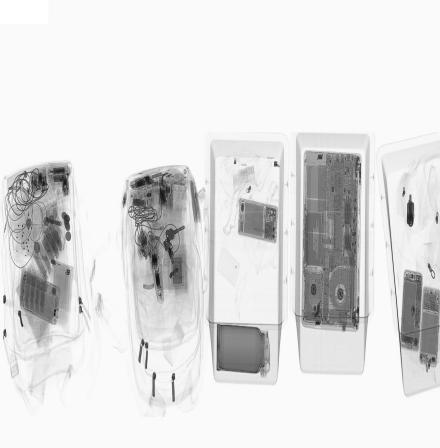Lighter: (63, 268, 71, 298)
